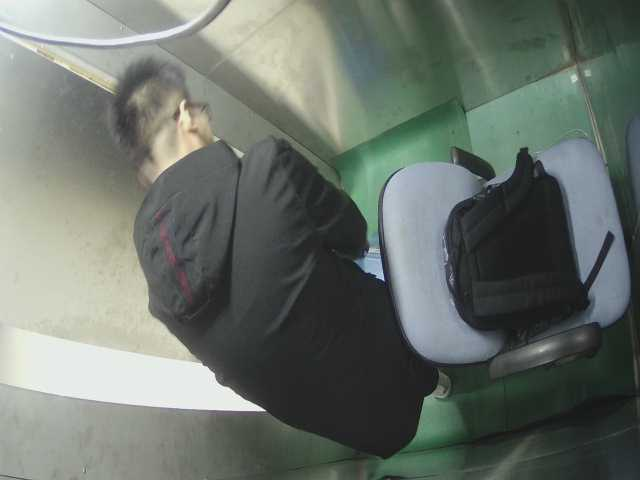bag: (440, 147, 597, 324)
chair: (358, 131, 633, 383)
person: (101, 47, 413, 438)
